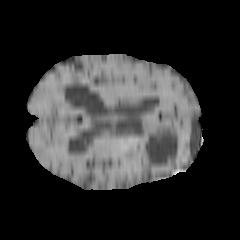glioma: (124, 97, 189, 172)
